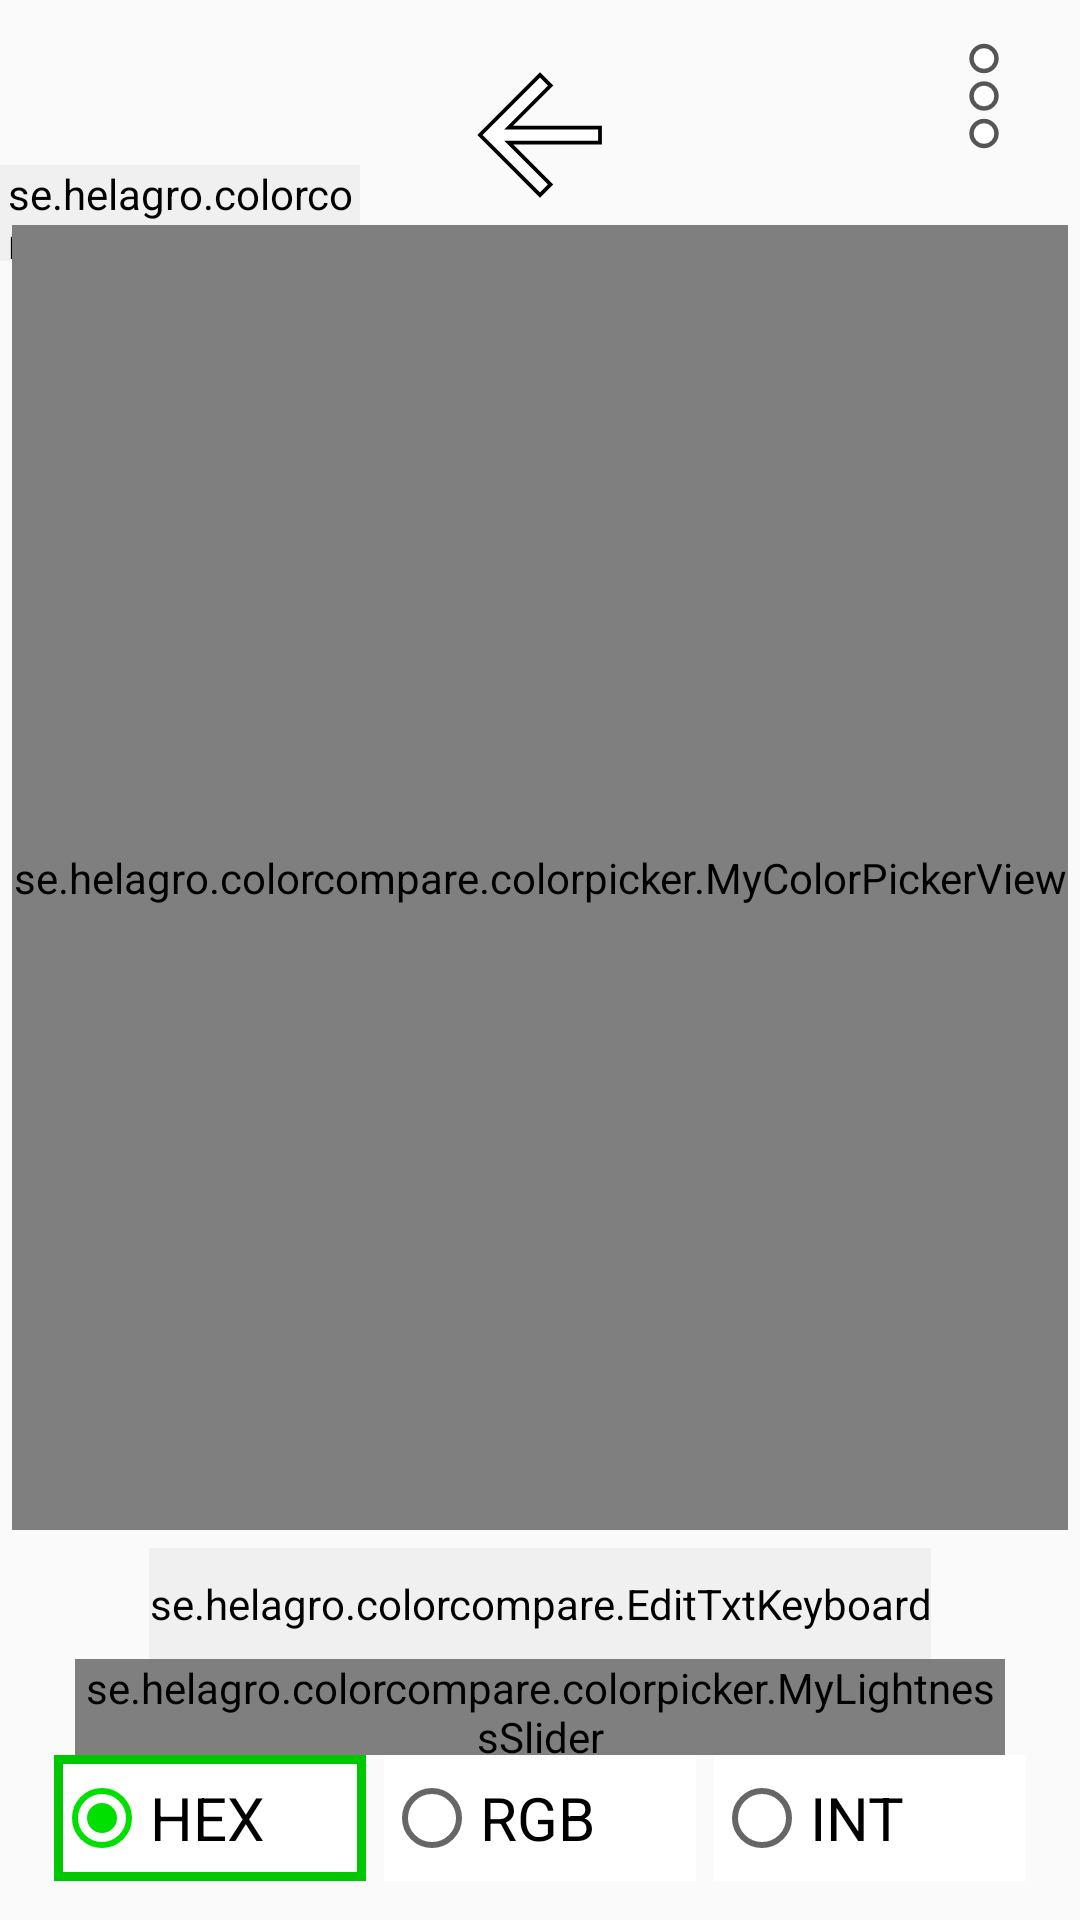

Icon bounding boxes for this 1080 x 1920 phone screenshot, format (x1, y1, x2, y2):
arrow: (477, 72, 602, 198)
more: (969, 43, 999, 149)
